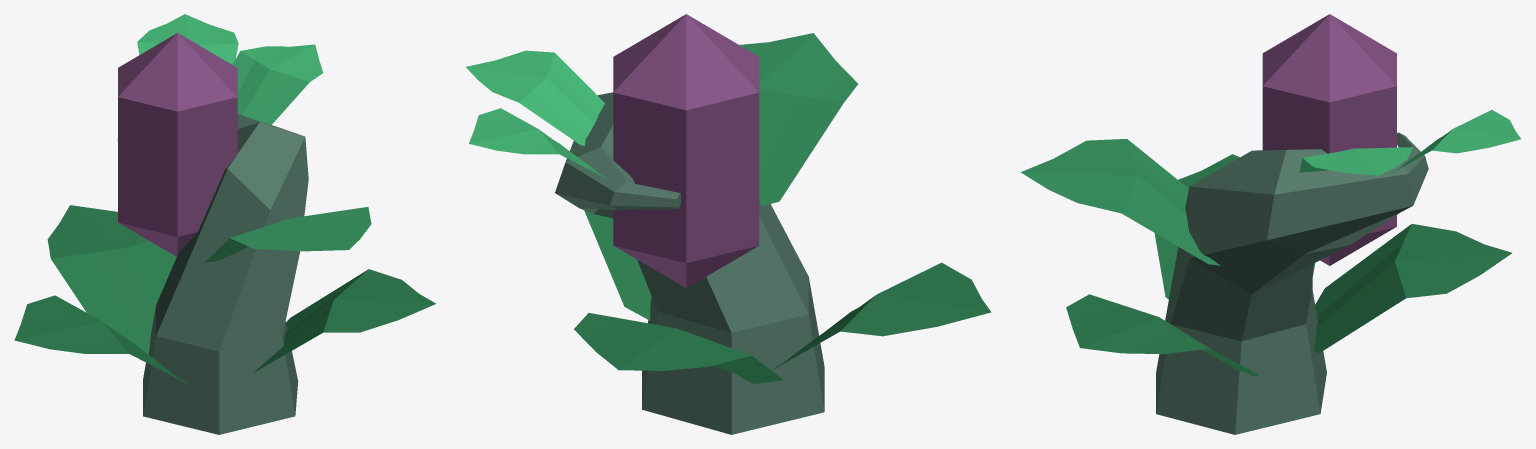
File: Crystal_Plant.fbx
3 views of the same model, side by side, from view 1: azimuth 30°, elevation 25°; view 2: azimuth 150°, elevation 25°; view 3: azimuth 270°, elevation 25° (orthographic). The views are drawn at different scales.
Parts seen in each view (by area): view 1: polySurface371, polySurface373, polySurface372, polySurface370, polySurface366, polySurface369, polySurface367, polySurface368; view 2: polySurface373, polySurface371, polySurface367, polySurface372, polySurface369, polySurface366, polySurface368, polySurface370; view 3: polySurface371, polySurface373, polySurface372, polySurface367, polySurface370, polySurface368, polySurface366, polySurface369.
Boxes of the visible parts, x1,y1,x2,y2 form: polySurface371: [117, 114, 308, 434]; polySurface373: [118, 33, 237, 256]; polySurface372: [47, 205, 176, 354]; polySurface370: [253, 269, 436, 372]; polySurface366: [232, 44, 322, 125]; polySurface369: [14, 295, 188, 383]; polySurface367: [205, 207, 371, 262]; polySurface368: [137, 14, 238, 64]; polySurface373: [613, 14, 759, 288]; polySurface371: [555, 92, 824, 434]; polySurface367: [740, 33, 857, 206]; polySurface372: [574, 313, 783, 383]; polySurface369: [771, 262, 991, 370]; polySurface366: [466, 50, 604, 145]; polySurface368: [469, 108, 606, 177]; polySurface370: [584, 210, 651, 320]; polySurface371: [1156, 132, 1428, 434]; polySurface373: [1262, 14, 1396, 265]; polySurface372: [1313, 224, 1511, 352]; polySurface367: [1020, 139, 1220, 265]; polySurface370: [1066, 294, 1259, 376]; polySurface368: [1391, 110, 1520, 173]; polySurface366: [1299, 147, 1413, 175]; polySurface369: [1154, 154, 1315, 299].
Size of the model in its own units: 1.97 by 1.74 by 2.09.
